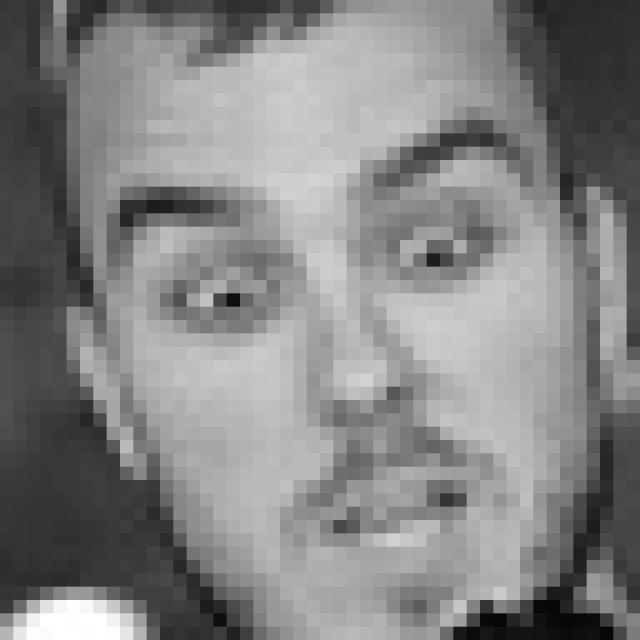surprise: (120, 120, 540, 559)
